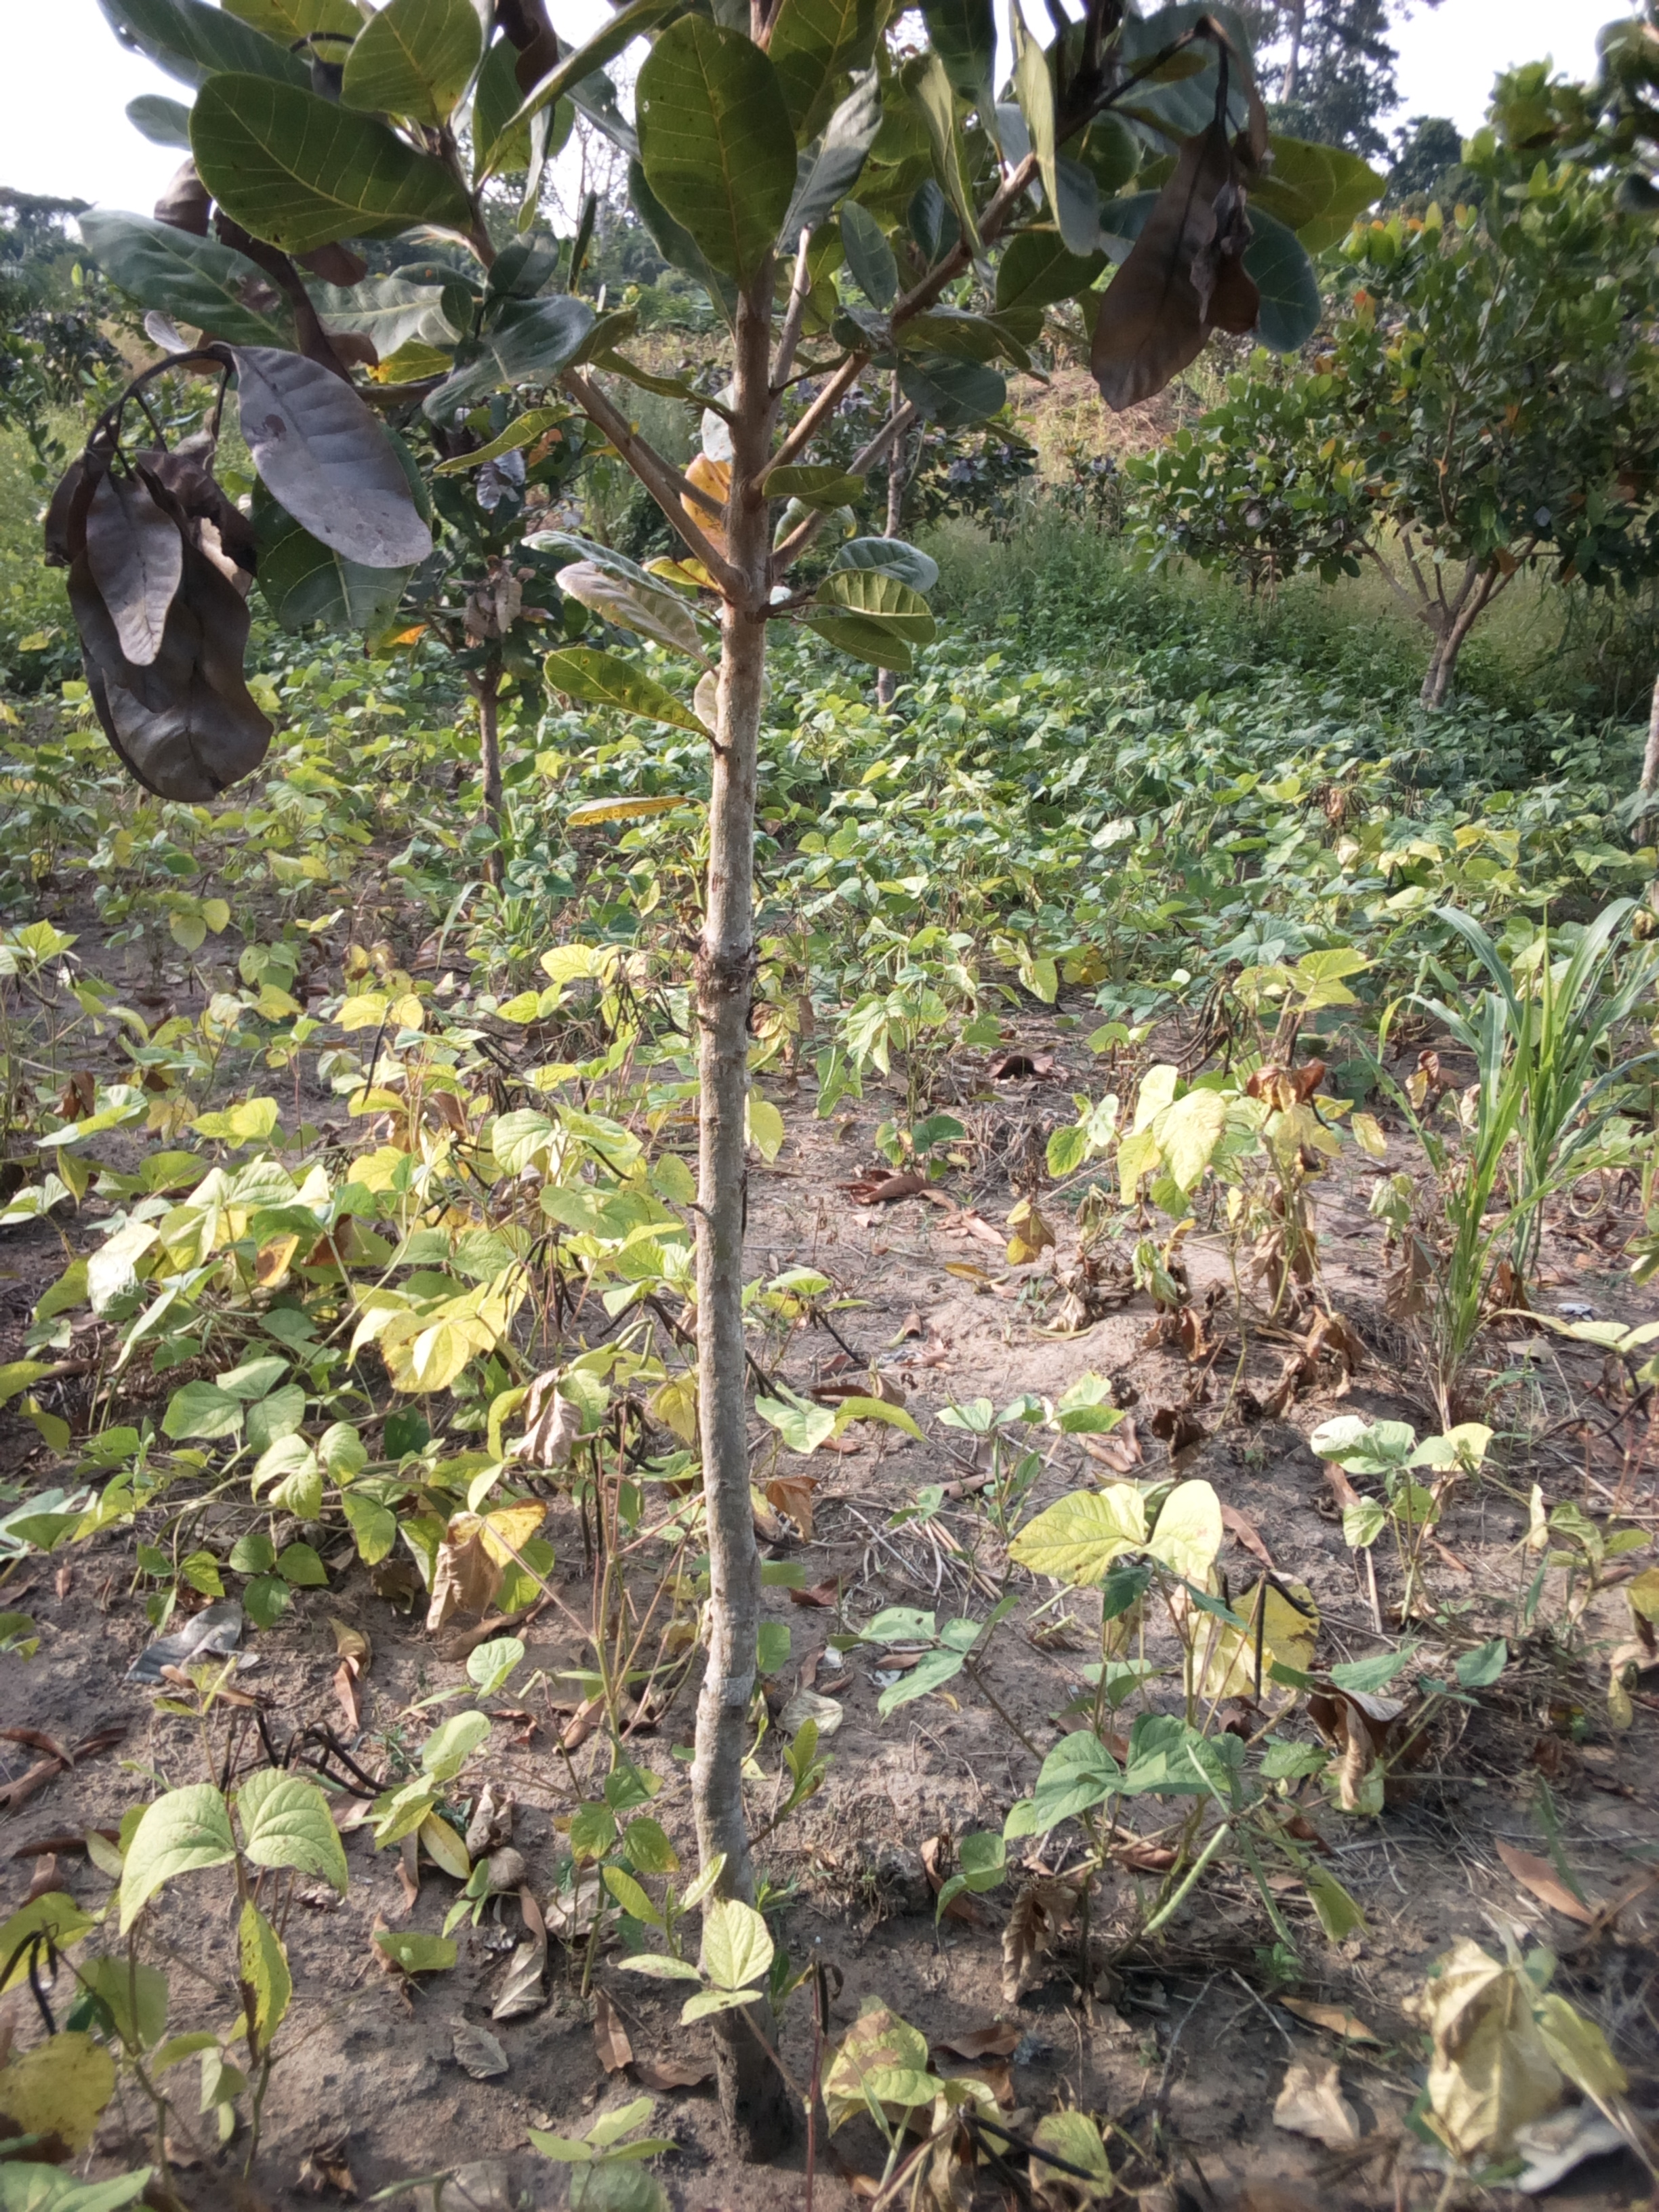Dessèchement des bourgeons: (54, 392, 274, 805)
